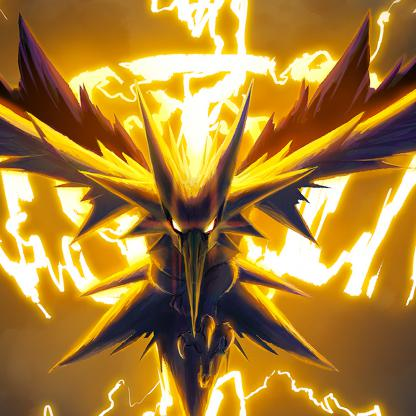Zapdos: (1, 11, 416, 416)
